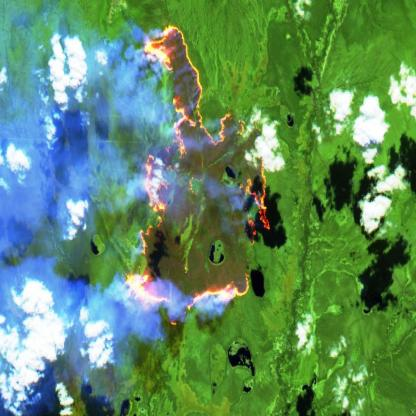fire: (124, 21, 273, 328)
